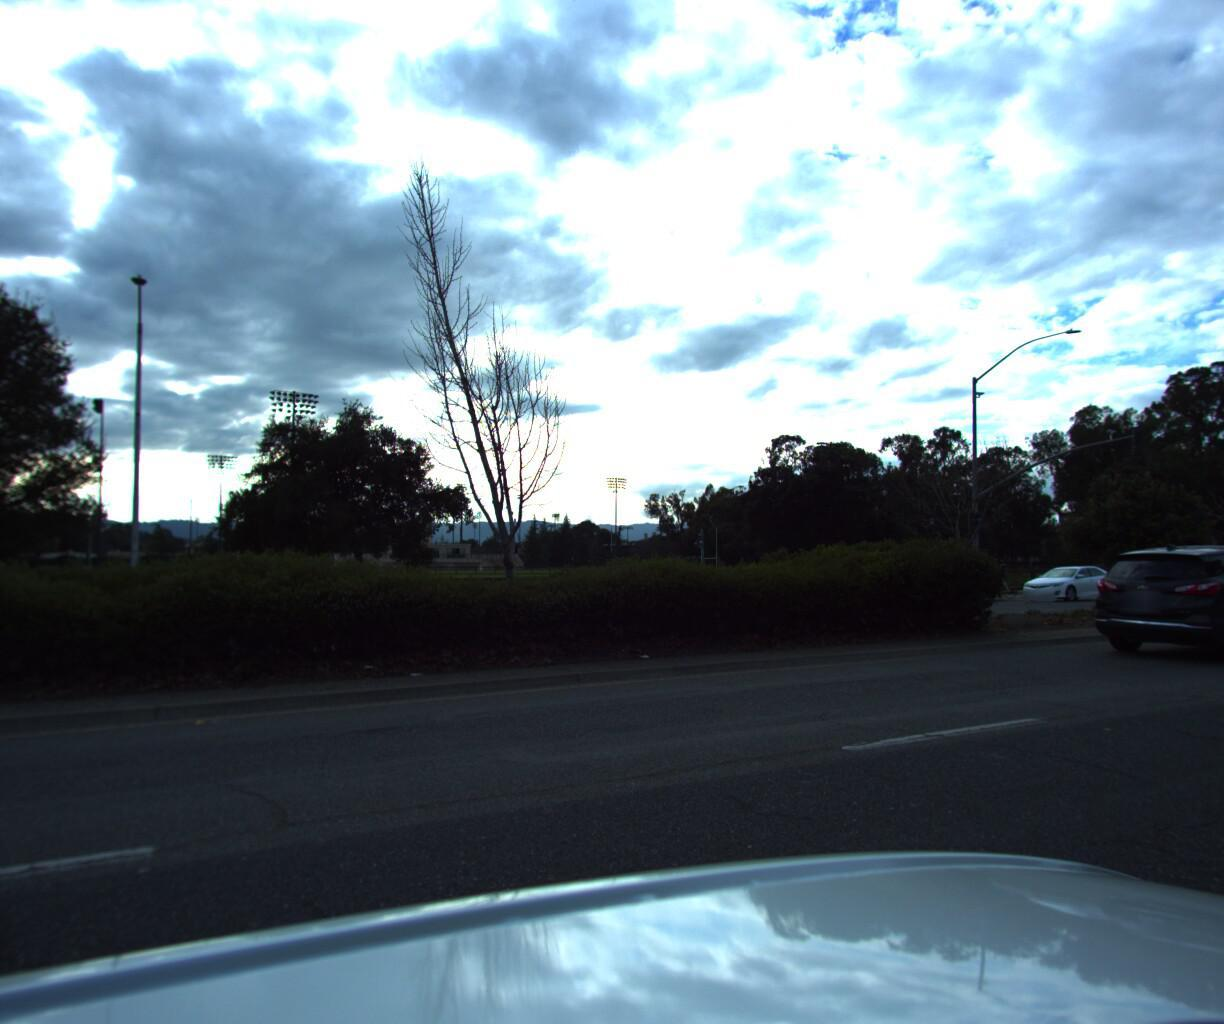bicycle: (971, 558, 1018, 594)
car: (1072, 543, 1224, 666), (1006, 559, 1125, 607)
